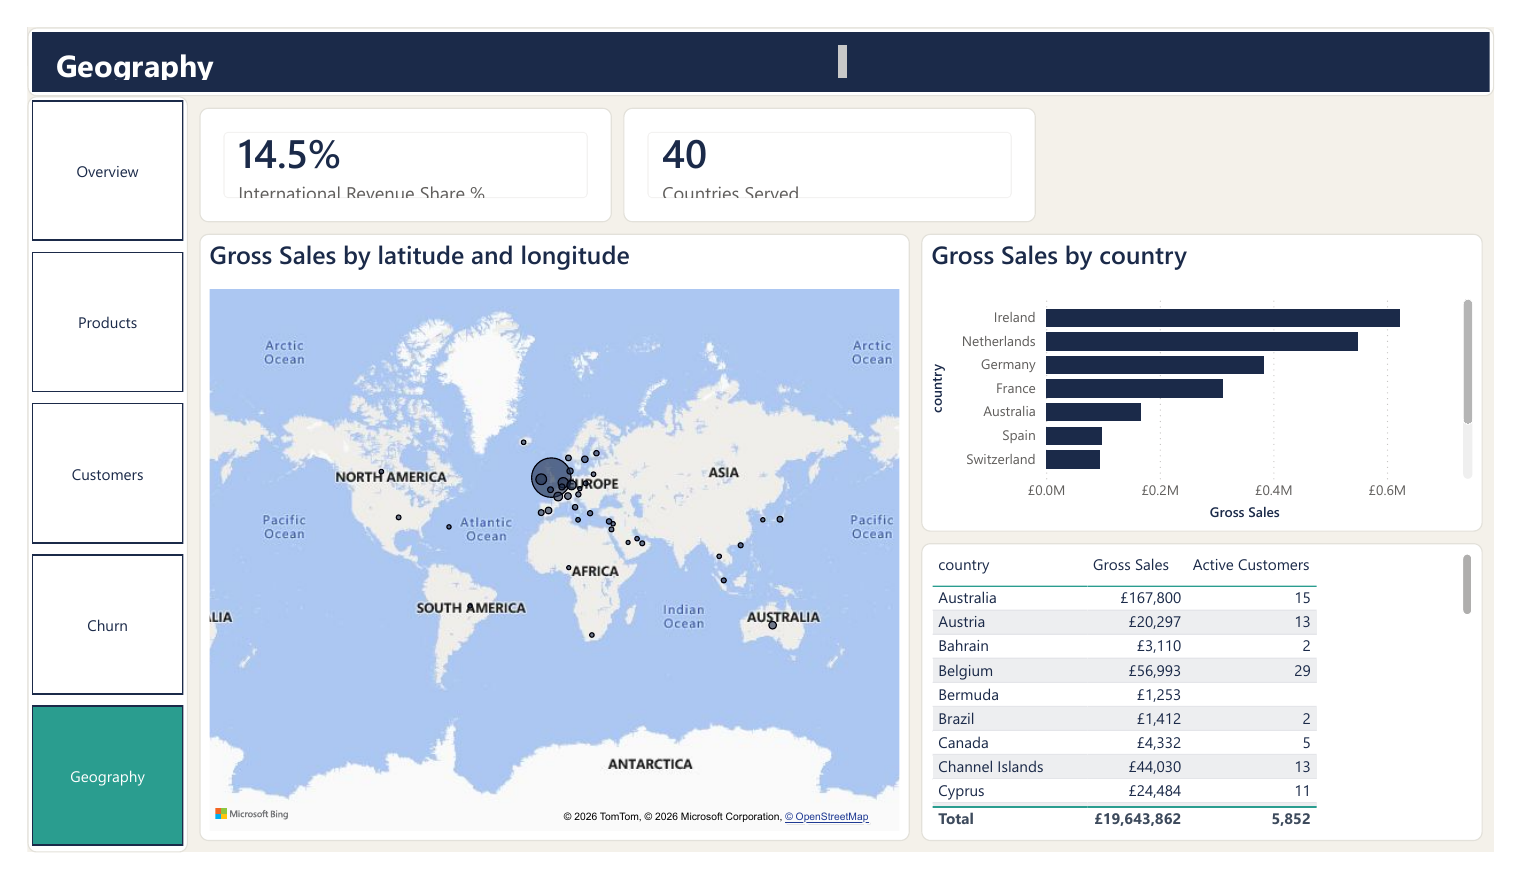

What the dashboard file says about the page in this screenshot:
{"tool":"powerbi","page":{"name":"Geography","canvas":[1280,720],"ordinal":4},"visuals":[{"type":"shape","box":[0,0,1280,60],"z":0},{"type":"textbox","box":[20,10,700,40],"z":1000},{"type":"pageNavigator","box":[0,60,140,660],"z":2000},{"type":"cardVisual","fields":{"Data":["_Measures.International Revenue Share %"]},"box":[150,70,360,100],"z":2001},{"type":"cardVisual","fields":{"Data":["_Measures.Countries Served"]},"box":[520,70,360,100],"z":2002},{"type":"map","fields":{"Y":["dim_country.latitude"],"X":["dim_country.longitude"],"Size":["_Measures.Gross Sales"]},"box":[150,180,620,530],"z":2003},{"type":"clusteredBarChart","fields":{"Y":["_Measures.Gross Sales"],"Category":["dim_country.country"]},"box":[780,180,490,260],"z":2004},{"type":"tableEx","fields":{"Values":["dim_country.country","_Measures.Gross Sales","_Measures.Active Customers"]},"box":[780,450,490,260],"z":2005}]}

Visuals, with their boxes in screenshot pixels (x1, y1, x2, y2), scaled from the page's 1280x720 canvas onto the 1522x880 screenshot:
shape: (left=0, top=0, right=1521, bottom=73)
textbox: (left=24, top=12, right=856, bottom=61)
pageNavigator: (left=0, top=73, right=166, bottom=879)
cardVisual - _Measures.International Revenue Share %: (left=178, top=86, right=606, bottom=208)
cardVisual - _Measures.Countries Served: (left=618, top=86, right=1046, bottom=208)
map - dim_country.latitude x dim_country.longitude: (left=178, top=220, right=916, bottom=868)
clusteredBarChart - _Measures.Gross Sales x dim_country.country: (left=927, top=220, right=1510, bottom=538)
tableEx - dim_country.country x _Measures.Gross Sales: (left=927, top=550, right=1510, bottom=868)
